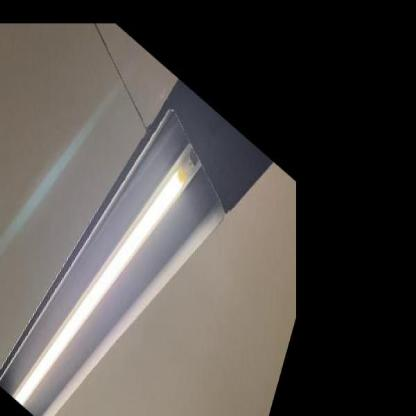light_on: (10, 60, 211, 415)
